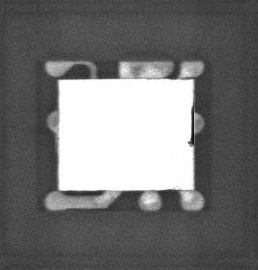DIE_BROKEN: (186, 105, 196, 149)
